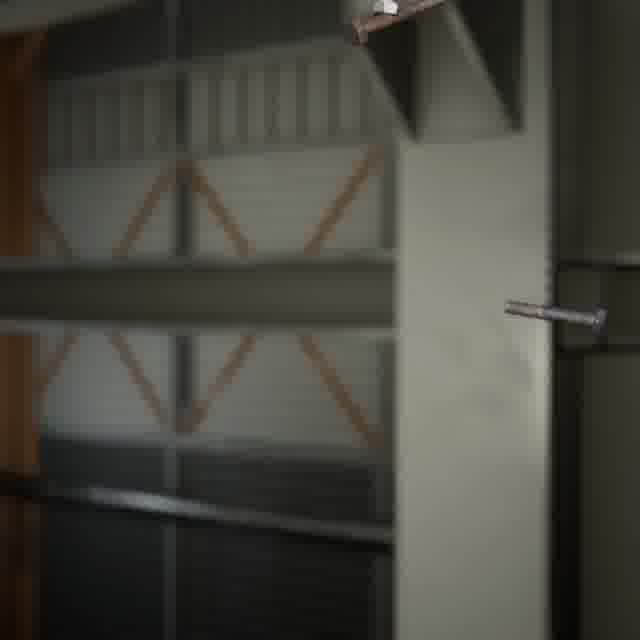bolt: (339, 0, 448, 50), (500, 295, 612, 338)
